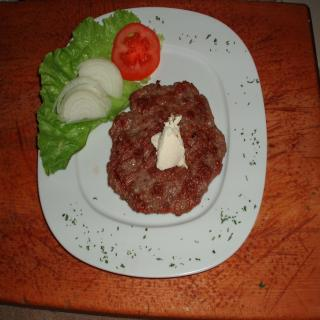tomato: (110, 21, 164, 73)
